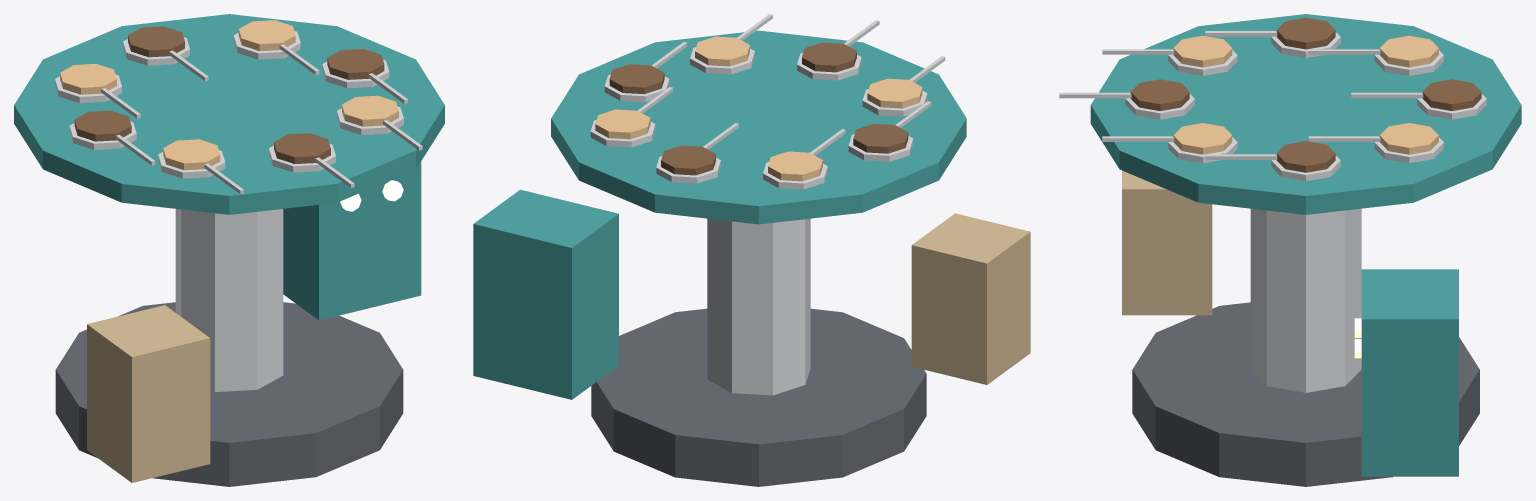
Rendered from chocolate-and-confectionery-factory-lollipop-spinner-bebd68cc__36777.glb.
The picture shows the model from 3 angles, left to right: view 1: azimuth 30°, elevation 25°; view 2: azimuth 150°, elevation 25°; view 3: azimuth 270°, elevation 25°; orthographic projection. The views are drawn at different scales.
Visible parts, largest first — view 1: lollipop-spinner, turntable-lolly/teal, turntable-lolly/candy, turntable-lolly/choc, turntable-lolly/steel, turntable-lolly/floor; view 2: lollipop-spinner, turntable-lolly/teal, turntable-lolly/candy, turntable-lolly/choc, turntable-lolly/steel, turntable-lolly/floor; view 3: lollipop-spinner, turntable-lolly/teal, turntable-lolly/candy, turntable-lolly/choc, turntable-lolly/steel, turntable-lolly/floor.
Part boxes in pixels (x1=…): lollipop-spinner: x1=55, y1=161, x2=421, y2=486; turntable-lolly/teal: x1=14, y1=14, x2=444, y2=214; turntable-lolly/candy: x1=60, y1=20, x2=398, y2=170; turntable-lolly/choc: x1=74, y1=26, x2=384, y2=163; turntable-lolly/steel: x1=55, y1=31, x2=403, y2=178; turntable-lolly/floor: x1=101, y1=44, x2=422, y2=194; lollipop-spinner: x1=473, y1=189, x2=1030, y2=486; turntable-lolly/teal: x1=551, y1=30, x2=966, y2=224; turntable-lolly/candy: x1=595, y1=36, x2=922, y2=181; turntable-lolly/choc: x1=609, y1=42, x2=908, y2=175; turntable-lolly/steel: x1=590, y1=47, x2=927, y2=189; turntable-lolly/floor: x1=637, y1=14, x2=945, y2=155; lollipop-spinner: x1=1122, y1=170, x2=1479, y2=486; turntable-lolly/teal: x1=1090, y1=14, x2=1521, y2=214; turntable-lolly/candy: x1=1173, y1=35, x2=1438, y2=154; turntable-lolly/choc: x1=1130, y1=17, x2=1481, y2=172; turntable-lolly/steel: x1=1125, y1=32, x2=1486, y2=181; turntable-lolly/floor: x1=1059, y1=31, x2=1423, y2=159.
Size of the model in its own units: 1.36 by 1.02 by 1.33.
